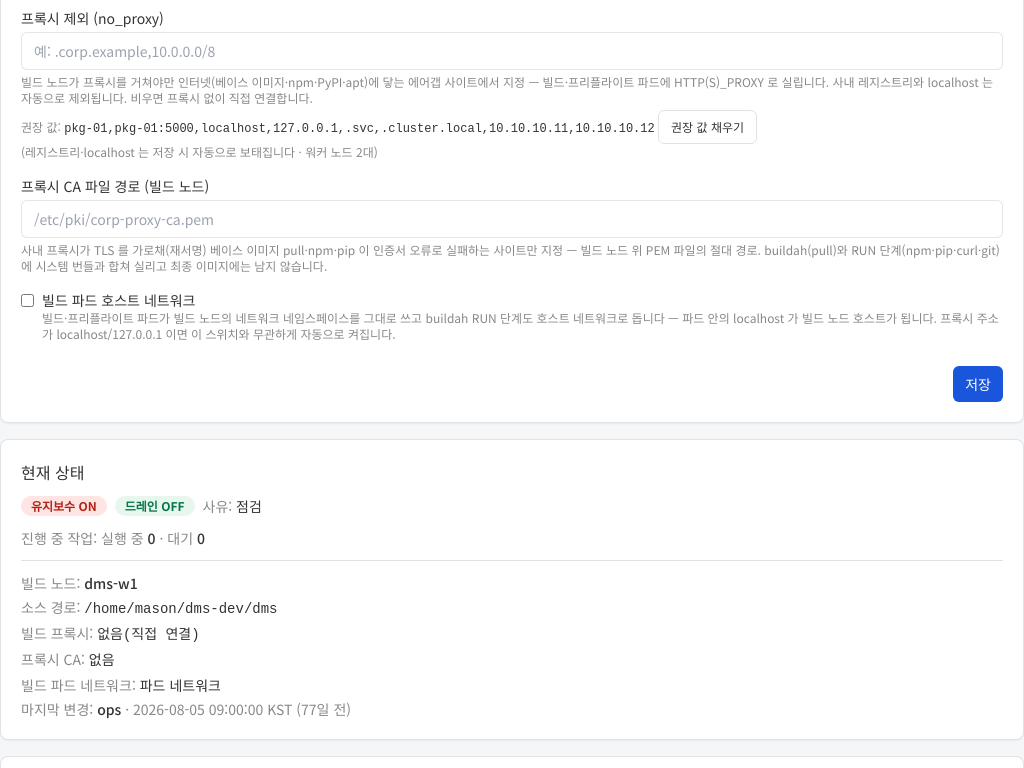
Scenario: 빌드 노드를 서버가 거절하면(unknown_build_node) 한글 메시지를 보여준다
The image size is (1024, 768).
(page scrolled)
Step 1. Click the button "저장" → (978, 384), box x1=953 y1=366 x2=1003 y2=402
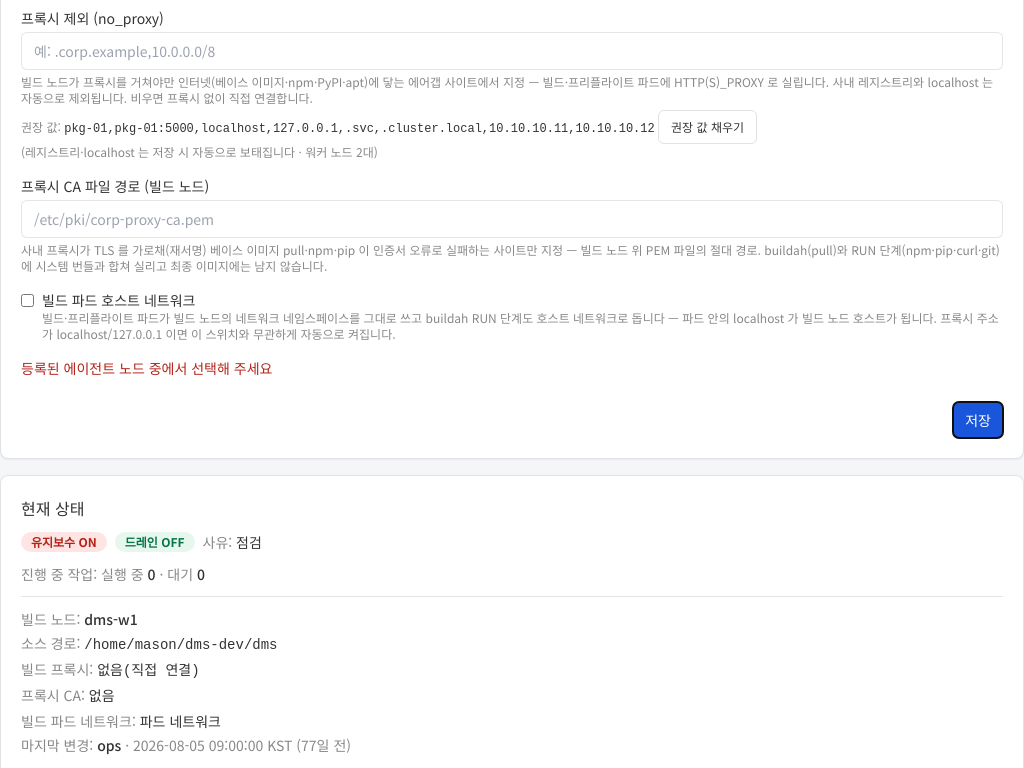
Now the text "등록된 에이전트 노드 중에서 선택해 주세요" is shown, box x1=21 y1=358 x2=272 y2=378
